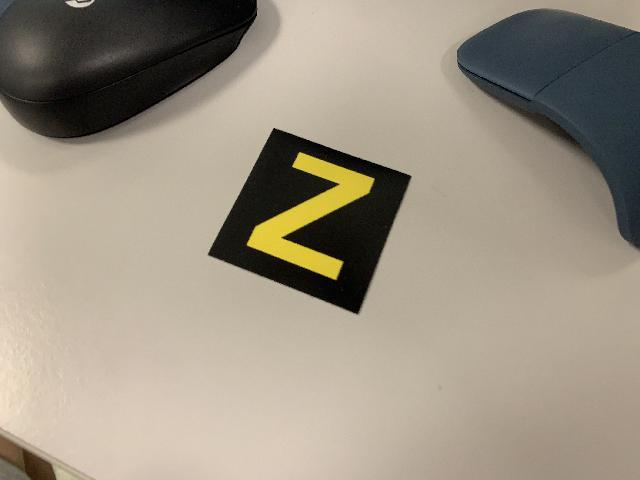z: (204, 127, 413, 317)
